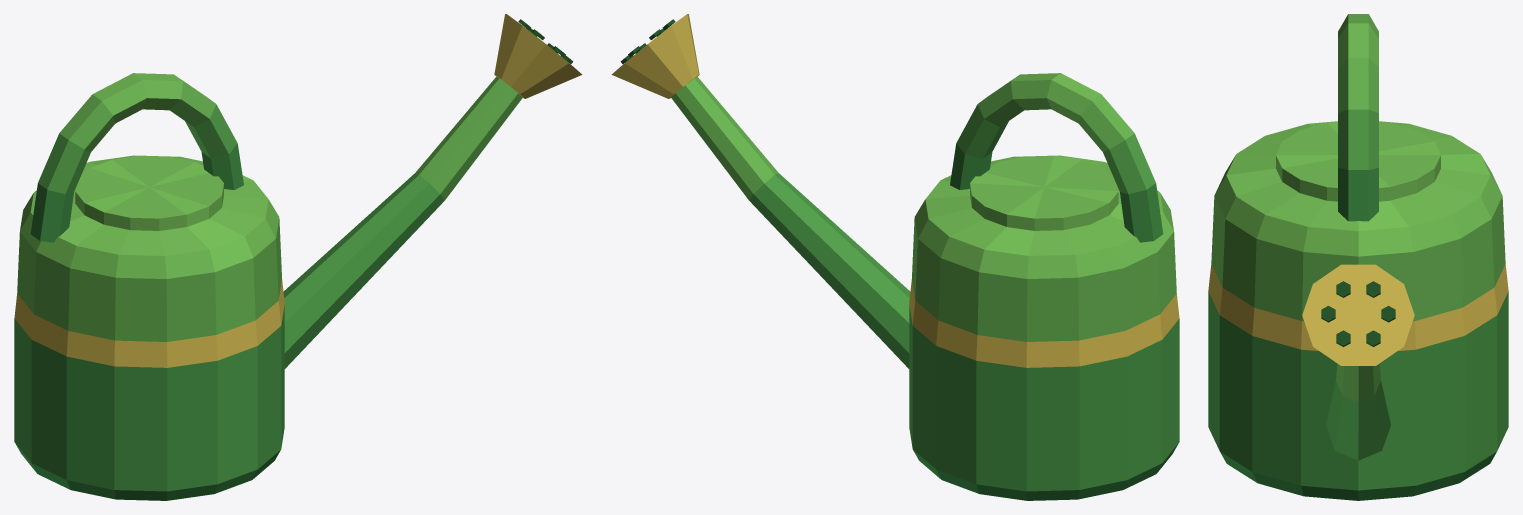
Rendered from habitat_prop_sprout.fbx.
3 renders of one model, left to right at view 1: azimuth 30°, elevation 25°; view 2: azimuth 150°, elevation 25°; view 3: azimuth 270°, elevation 25°, orthographic. The views are drawn at different scales.
Visible parts, largest first — view 1: habitat_prop_sprout; view 2: habitat_prop_sprout; view 3: habitat_prop_sprout.
Boxes of the visible parts, x1,y1,x2,y2 form: habitat_prop_sprout: (14,14,582,500); habitat_prop_sprout: (611,14,1179,500); habitat_prop_sprout: (1208,14,1508,500).
Bounding box in the file's own units: 1.83 × 1.21 × 0.8.
